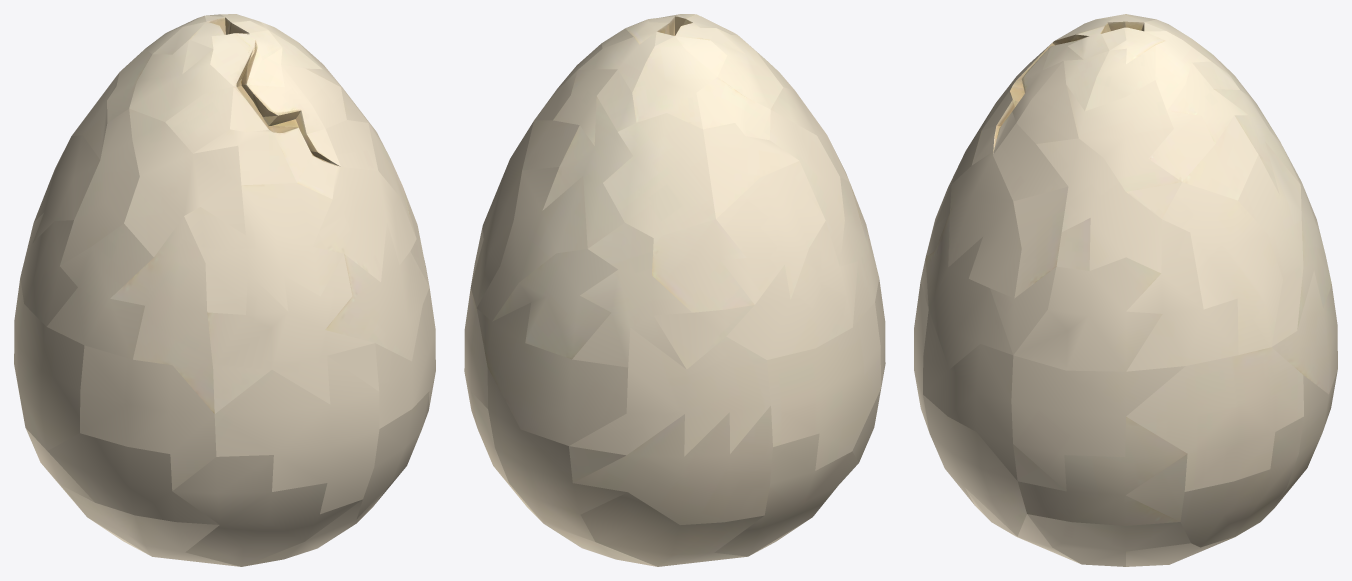
The model's file is egg.glb.
3 views of the same model, side by side, from view 1: azimuth 30°, elevation 25°; view 2: azimuth 150°, elevation 25°; view 3: azimuth 270°, elevation 25° (orthographic).
Size of the model in its own units: 1.4 by 1.9 by 1.4.
1 material, 1 textured.
